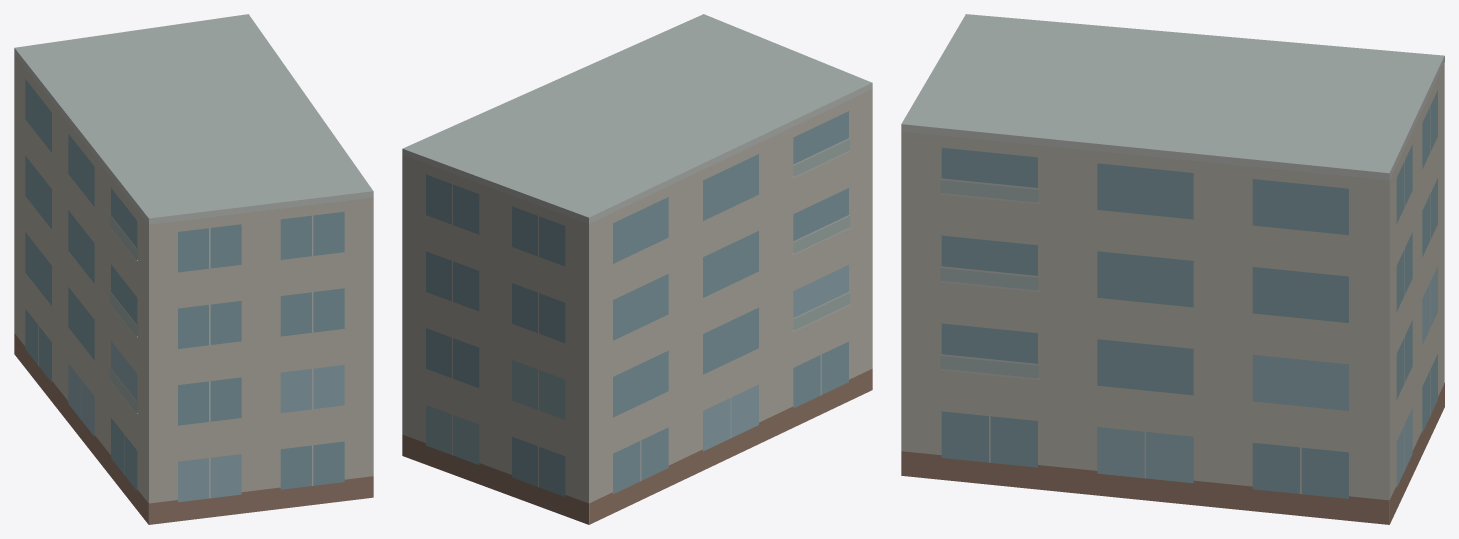
File: survey-upis-32912598.glb
3 renders of one model, left to right at view 1: azimuth 30°, elevation 25°; view 2: azimuth 150°, elevation 25°; view 3: azimuth 270°, elevation 25°, orthographic. The views are drawn at different scales.
Parts seen in each view (by area): view 1: survey-upis-32912598.tmp; view 2: survey-upis-32912598.tmp; view 3: survey-upis-32912598.tmp.
Boxes of the visible parts, box(x1,y1,x2,y2) form: survey-upis-32912598.tmp: box(14, 14, 373, 524); survey-upis-32912598.tmp: box(402, 14, 872, 524); survey-upis-32912598.tmp: box(901, 14, 1444, 524).
Size of the model in its own units: 11.71 by 12.05 by 16.89.
